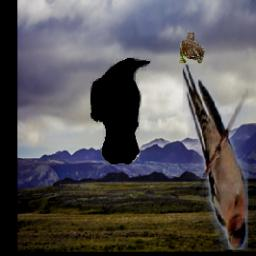Crow: (90, 57, 152, 164)
Sparrow: (179, 32, 206, 64)
Swallow: (183, 64, 248, 250)
